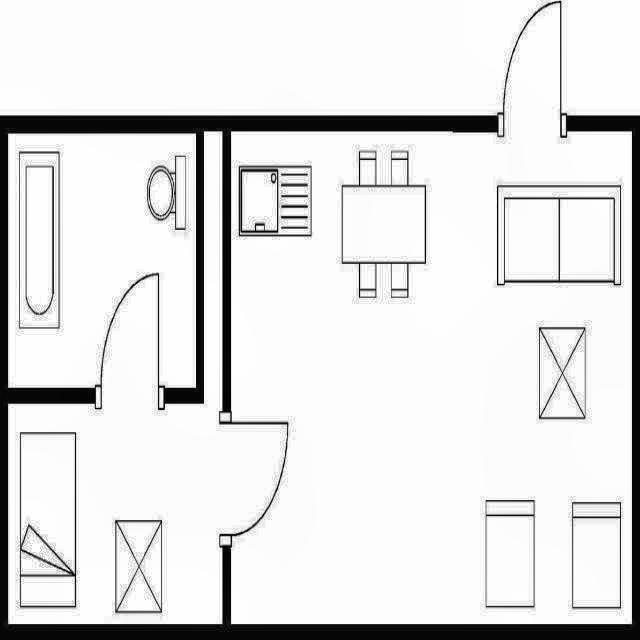room: (231, 132, 632, 624), (8, 131, 222, 624), (8, 135, 196, 386)
